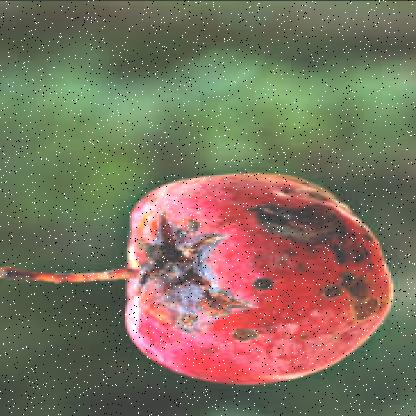damaged_apple: (121, 176, 386, 388)
